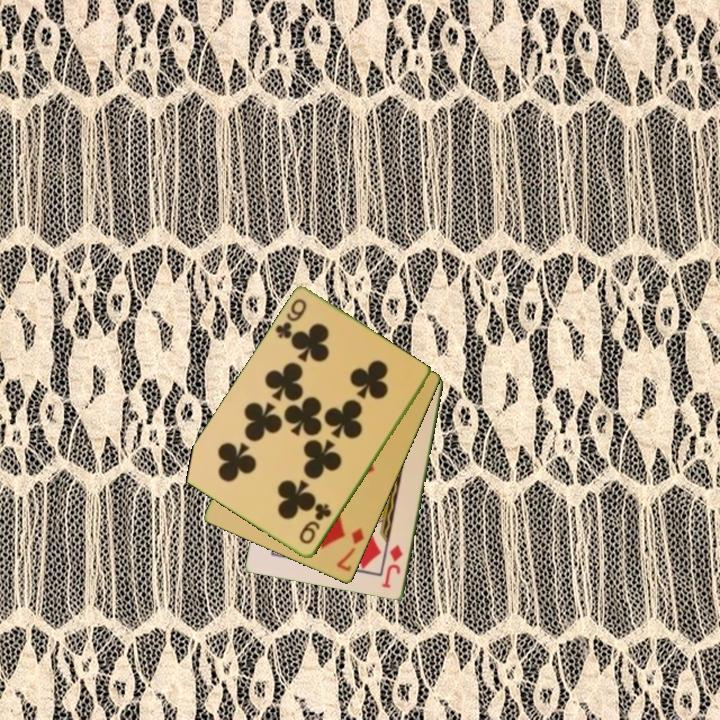7d: (333, 524, 368, 575)
9c: (296, 500, 335, 548), (272, 295, 310, 342)
Jd: (379, 542, 406, 591)
